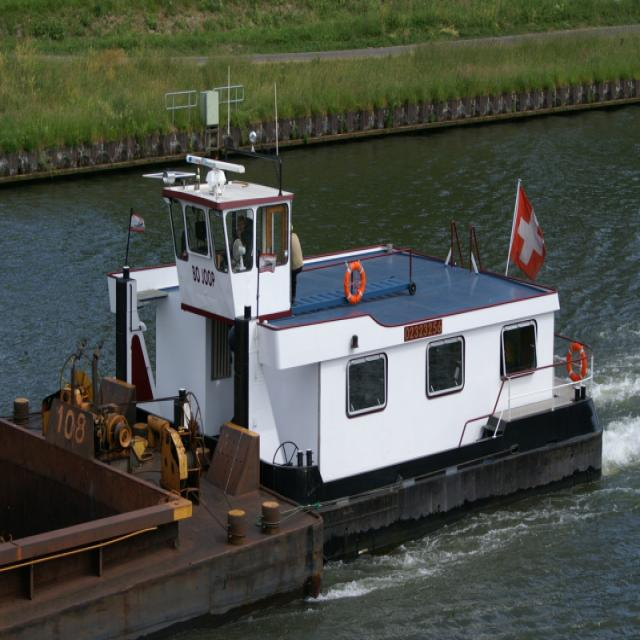tugboat: (93, 147, 610, 572)
